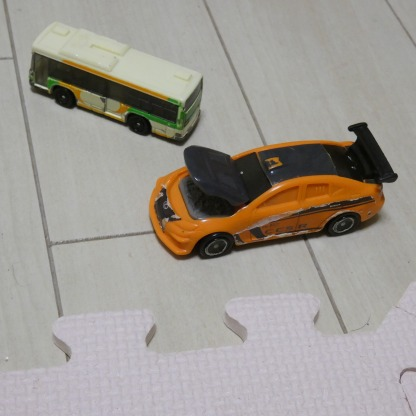car: (148, 121, 392, 258), (30, 20, 202, 142)
